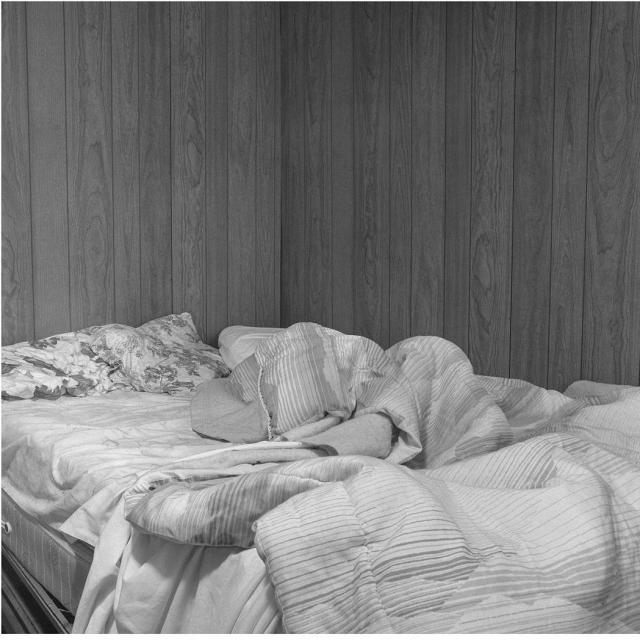bed: (0, 313, 640, 636)
